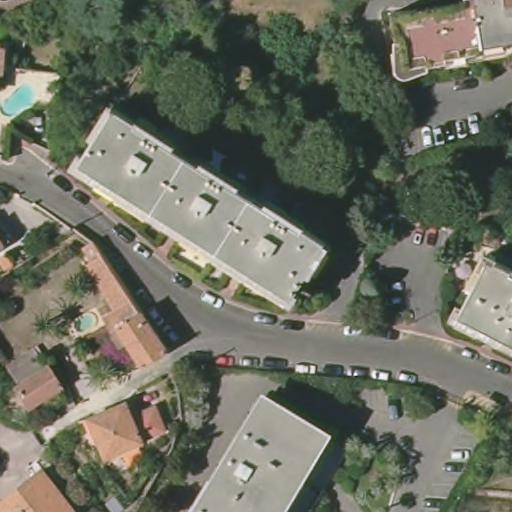pool: (0, 81, 40, 116), (70, 310, 97, 332)
